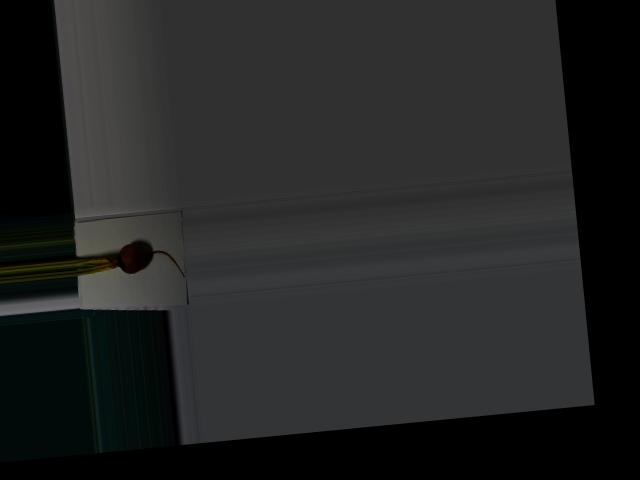beet: (74, 239, 184, 286)
